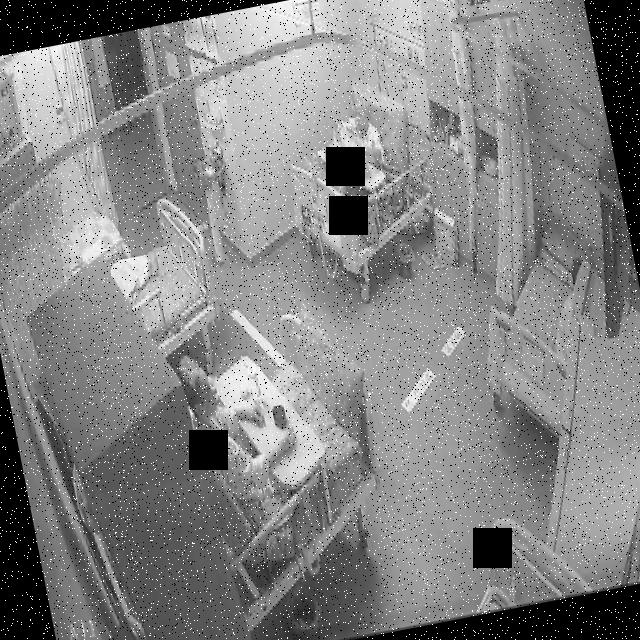bed: (176, 309, 398, 603), (460, 209, 615, 448), (276, 95, 446, 271), (104, 188, 227, 360)
patient: (178, 336, 312, 534), (336, 95, 388, 172)
sit: (176, 323, 372, 537), (310, 94, 392, 204)
